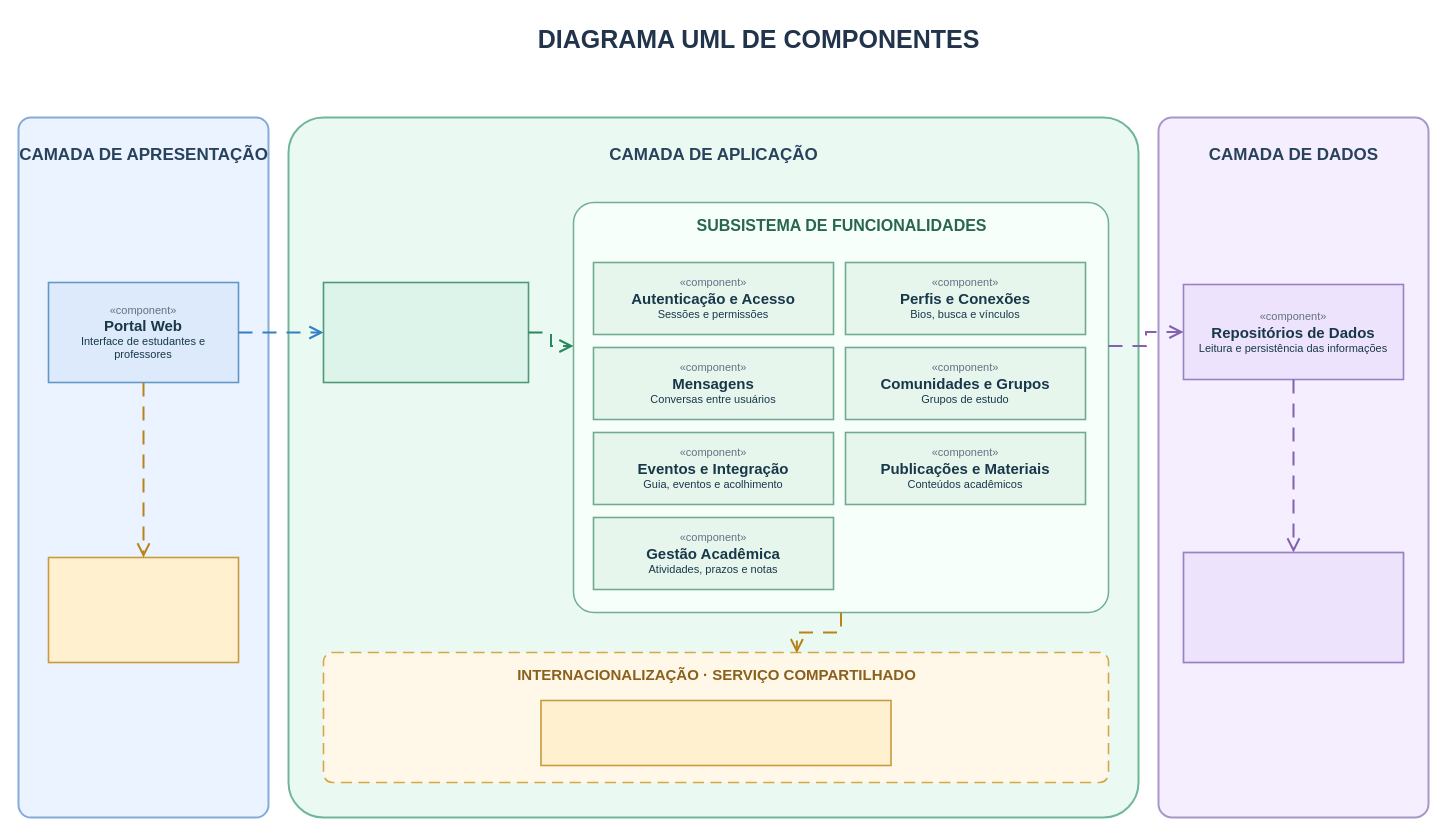
The diagram is 1446 pixels wide and 835 high, and some of its shapes have lost their labels. The shapes that lost their labels are listed below. From the top down, each one's box as (x1, y1, x2, y2) in pixels, then its label:
(322, 281, 529, 383): «component» API da Plataforma Entrada e coordenação das requisições
(47, 556, 239, 663): «component» Localização da Interface Menus, botões e idioma escolhido
(1182, 551, 1404, 663): «database» Banco de Dados Usuários, mensagens e conteúdos
(540, 699, 891, 766): «component» Tradução de Conteúdo Bios, mensagens, posts, descrições e guias
